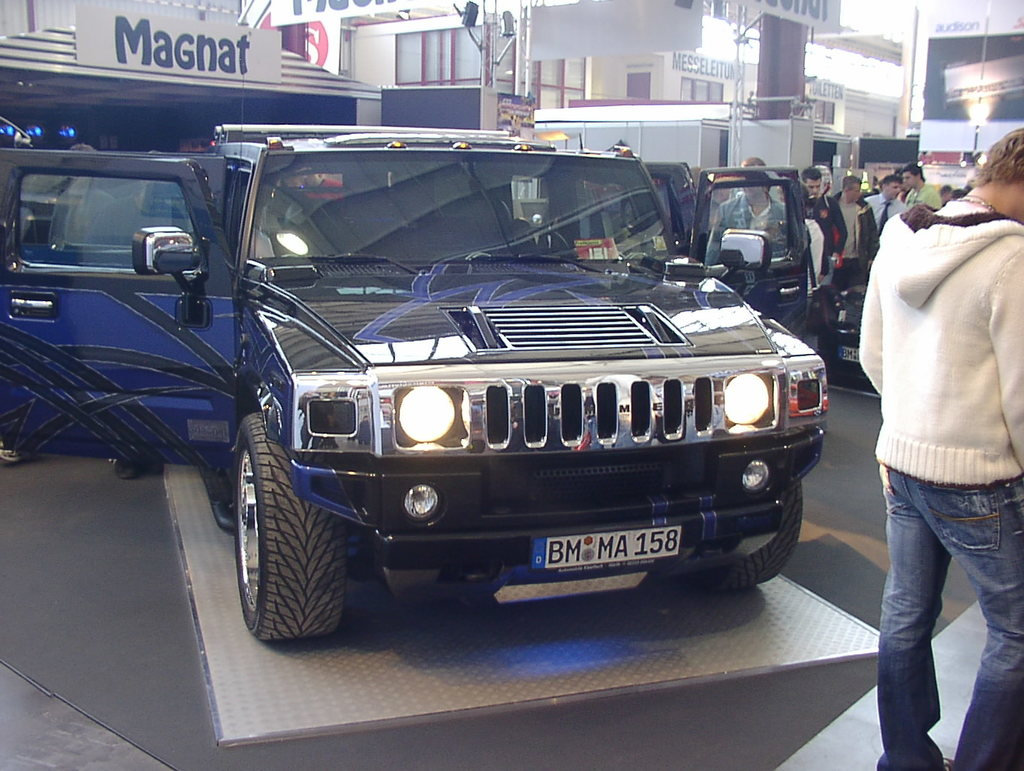Car: (0, 121, 828, 649)
